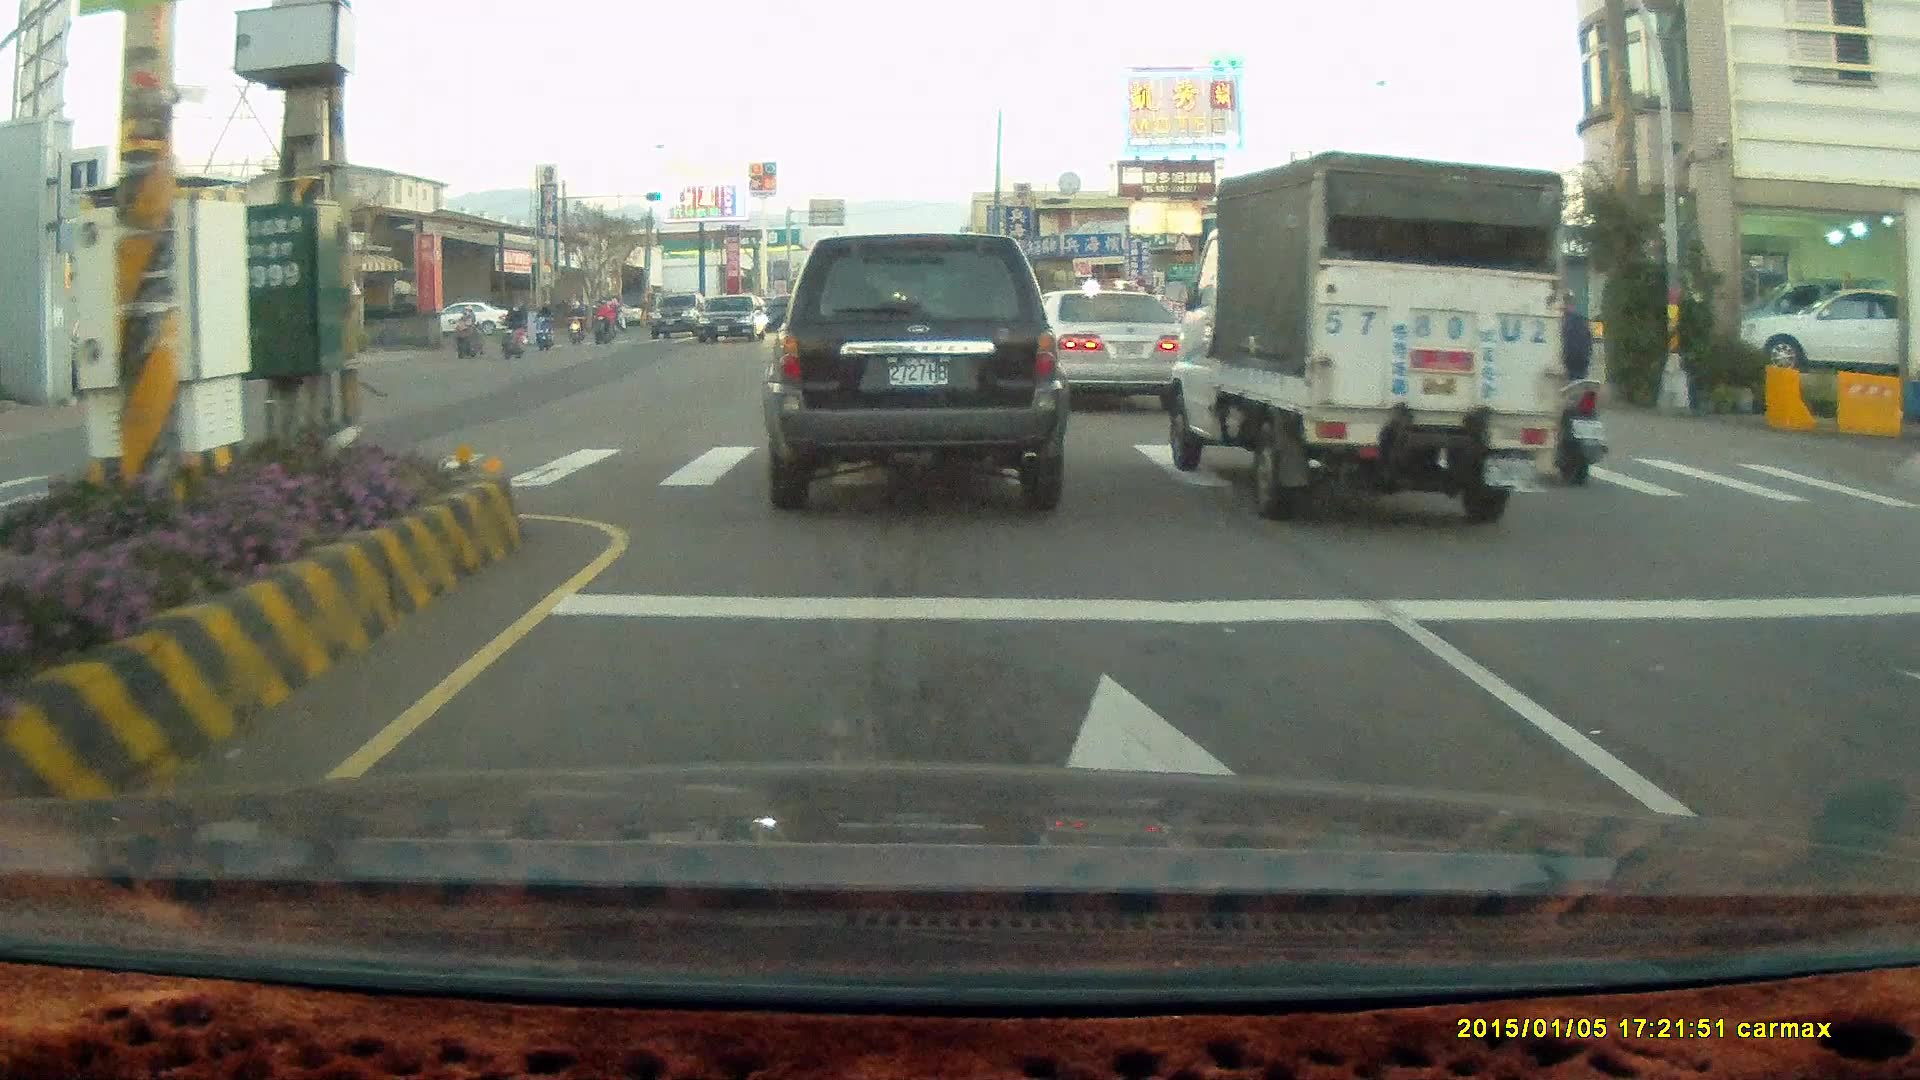rider: (1476, 282, 1609, 491), (451, 303, 489, 362), (498, 307, 527, 361), (532, 296, 557, 351), (563, 296, 587, 341), (597, 296, 617, 340)
vehicle: (1168, 149, 1566, 525), (761, 231, 1070, 517), (1016, 287, 1188, 408), (1043, 290, 1193, 414), (1736, 283, 1920, 375), (1747, 286, 1901, 377), (59, 314, 164, 392), (696, 295, 768, 348), (440, 301, 514, 339)
